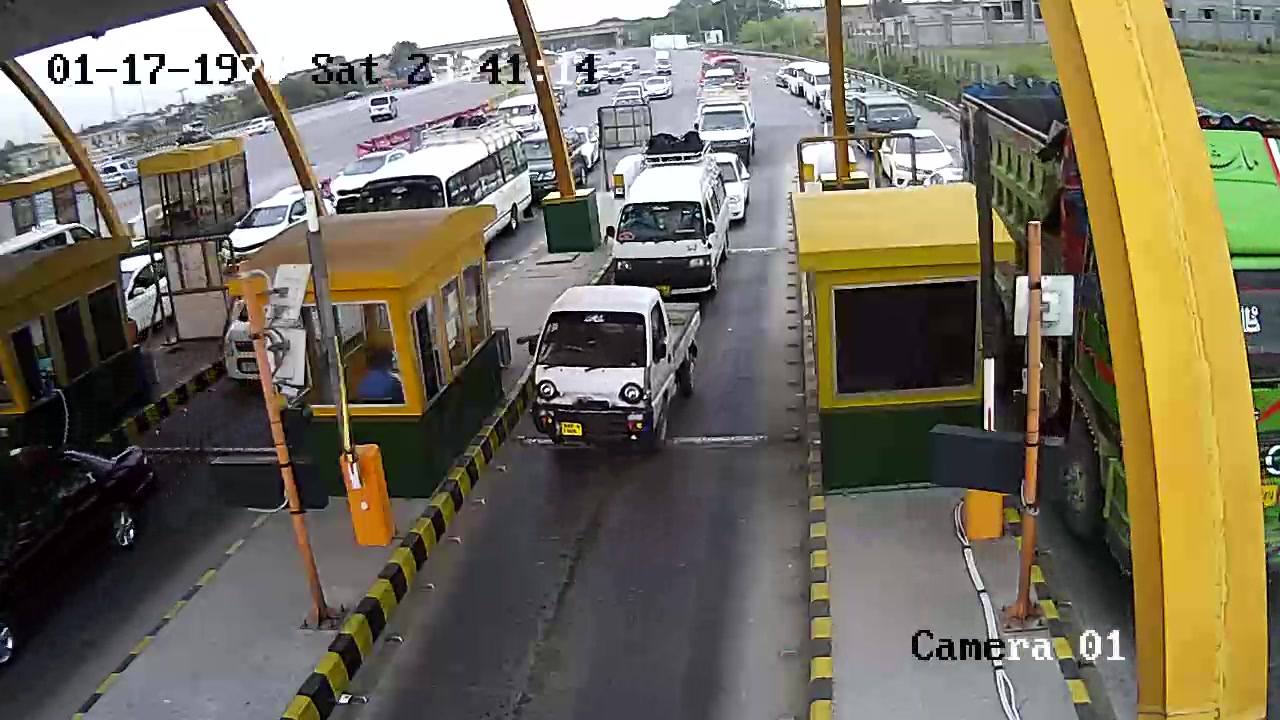F1: (528, 286, 712, 473)
